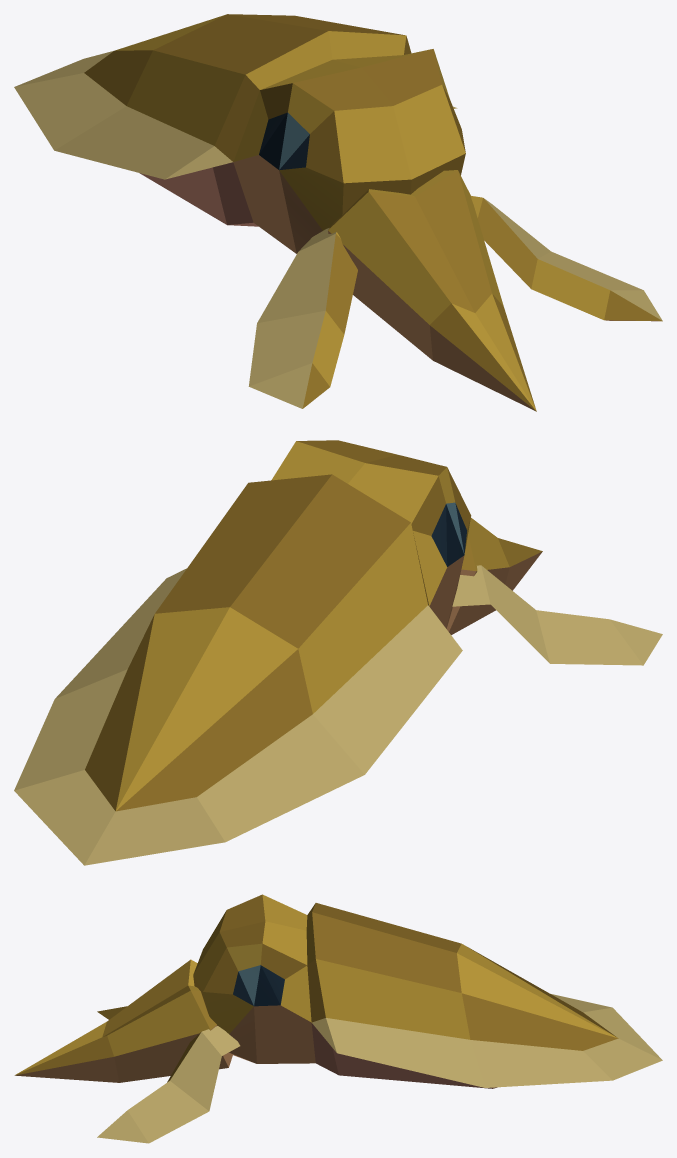
Rendered from cuttlefish.glb.
3 renders of one model, top to bottom at view 1: azimuth 30°, elevation 25°; view 2: azimuth 150°, elevation 25°; view 3: azimuth 270°, elevation 25°, orthographic. The views are drawn at different scales.
Visible parts, largest first — view 1: Body, Midtentacles, R_tentacle, L_tentacle; view 2: Body, R_tentacle, Midtentacles; view 3: Body, Midtentacles, L_tentacle.
Boxes of the visible parts, <box> form: Body: <box>14,14,465,253</box>; Midtentacles: <box>328,170,536,411</box>; R_tentacle: <box>248,228,357,408</box>; L_tentacle: <box>471,196,662,321</box>; Body: <box>14,440,471,865</box>; R_tentacle: <box>452,565,662,665</box>; Midtentacles: <box>446,518,542,634</box>; Body: <box>193,894,662,1088</box>; Midtentacles: <box>14,959,232,1082</box>; L_tentacle: <box>97,1026,240,1143</box>.
Bounding box in the file's own units: 1.09 × 0.6124 × 2.16.
